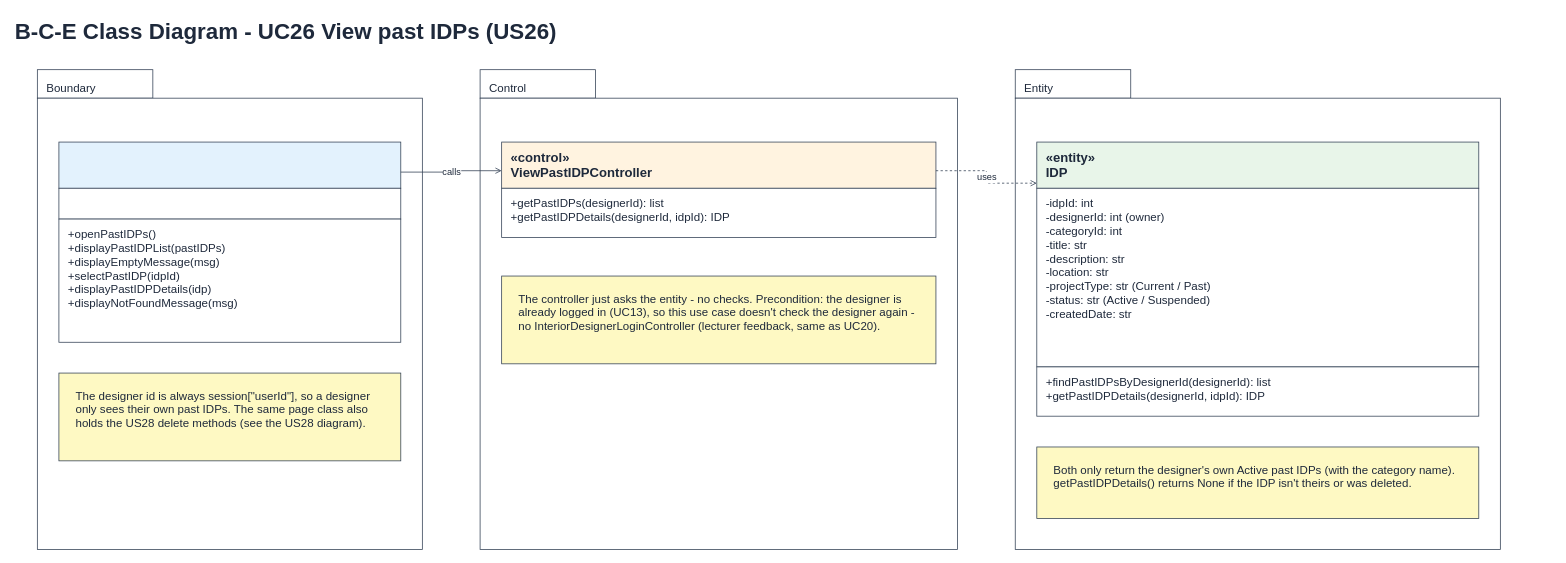
This 1566x563 diagram has some shape labels left out. The box of each missing label's shape, as (x1, y1, x2, y2) in pixels:
-viewPastIDPController: ViewPastIDPController: (58, 187, 401, 219)
«boundary» PastIDPListPage: (58, 141, 401, 188)
